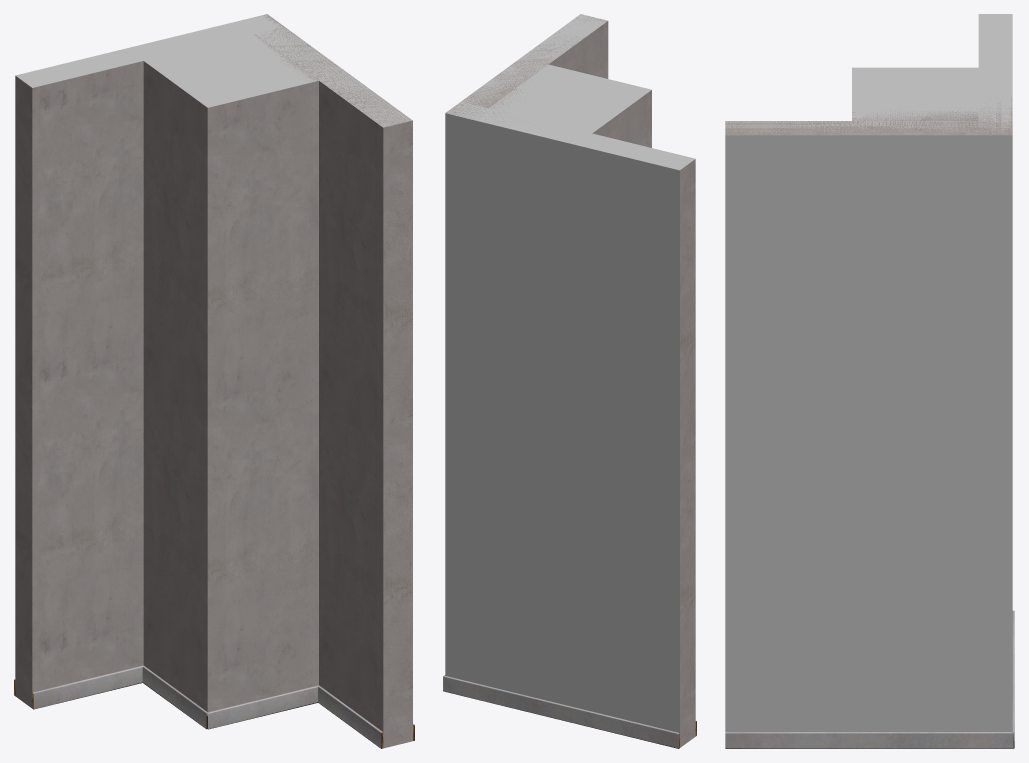
Rendered from SM_Wall_CornerIn_Interior_1_5x3_5_01b.fbx.
3 views of the same model, side by side, from view 1: azimuth 30°, elevation 25°; view 2: azimuth 150°, elevation 25°; view 3: azimuth 270°, elevation 25° (orthographic). The views are drawn at different scales.
Visible parts, largest first — view 1: SM_Wall_CornerIn_Interior_1_5x3_5_01b, SM_Wall_CornerIn_Interior_1_5x3_5_01b_ConvexHulls; view 2: SM_Wall_CornerIn_Interior_1_5x3_5_01b_ConvexHulls, SM_Wall_CornerIn_Interior_1_5x3_5_01b; view 3: SM_Wall_CornerIn_Interior_1_5x3_5_01b_ConvexHulls, SM_Wall_CornerIn_Interior_1_5x3_5_01b.
Boxes of the visible parts, box(x1,y1,x2,y2) form: SM_Wall_CornerIn_Interior_1_5x3_5_01b: box(14, 14, 414, 748); SM_Wall_CornerIn_Interior_1_5x3_5_01b_ConvexHulls: box(15, 14, 412, 127); SM_Wall_CornerIn_Interior_1_5x3_5_01b_ConvexHulls: box(445, 14, 695, 732); SM_Wall_CornerIn_Interior_1_5x3_5_01b: box(443, 14, 696, 748); SM_Wall_CornerIn_Interior_1_5x3_5_01b_ConvexHulls: box(725, 14, 1012, 732); SM_Wall_CornerIn_Interior_1_5x3_5_01b: box(725, 97, 1014, 748).
Size of the model in its own units: 171 by 171 by 400.
